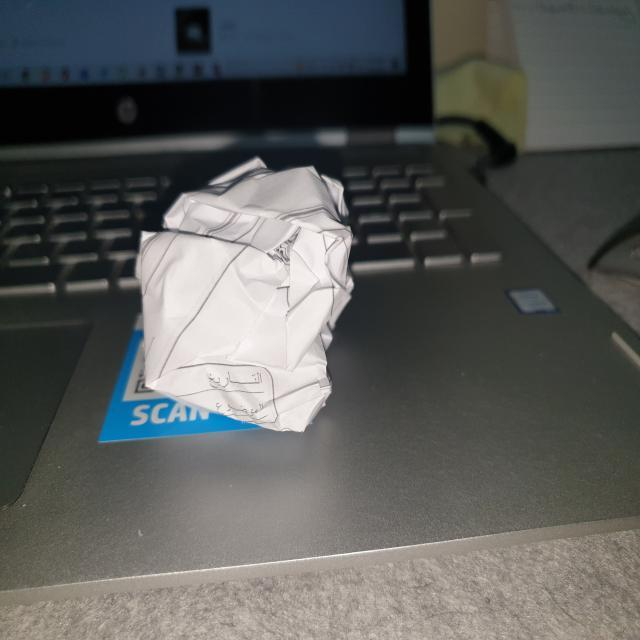Paper: (139, 157, 352, 431)
